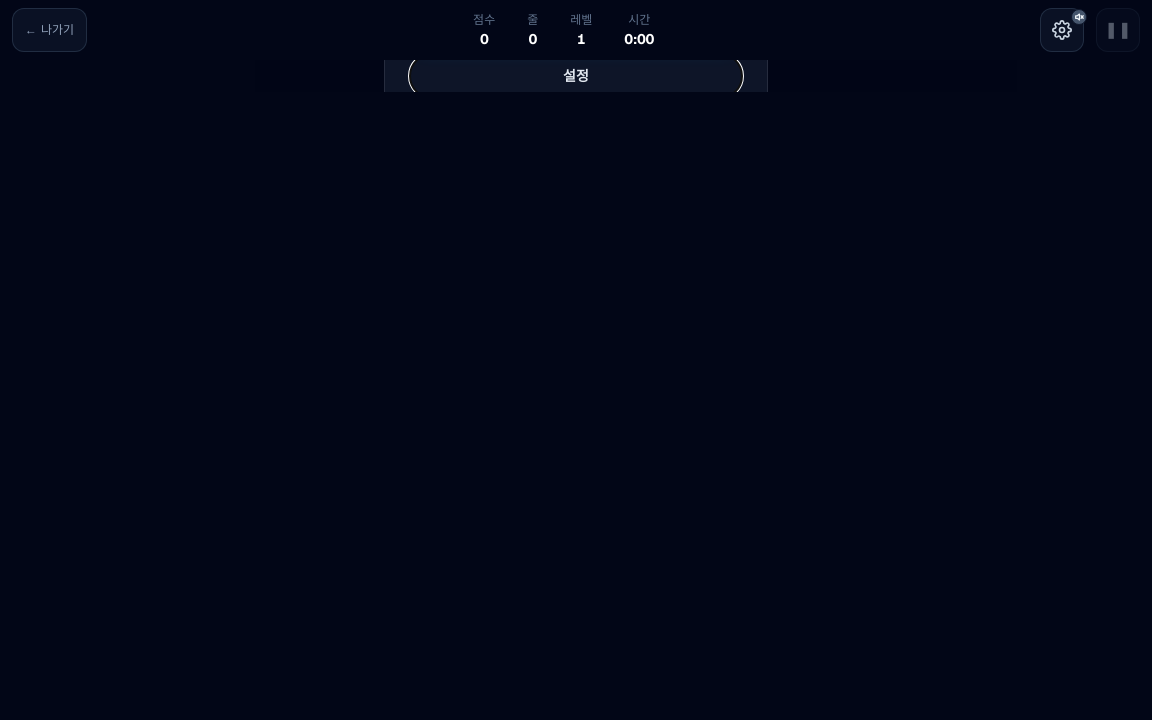
TetrisPlay 설정 시트와 준비 화면 (리뷰) › 준비 화면에서 시트를 연 사이 세션이 와도 "시작"이 포커스를 가져가지 않고, 닫은 뒤에 옮긴다
(page scrolled)
Click the button "설정".
click(576, 76)  # box [409,53,743,99]
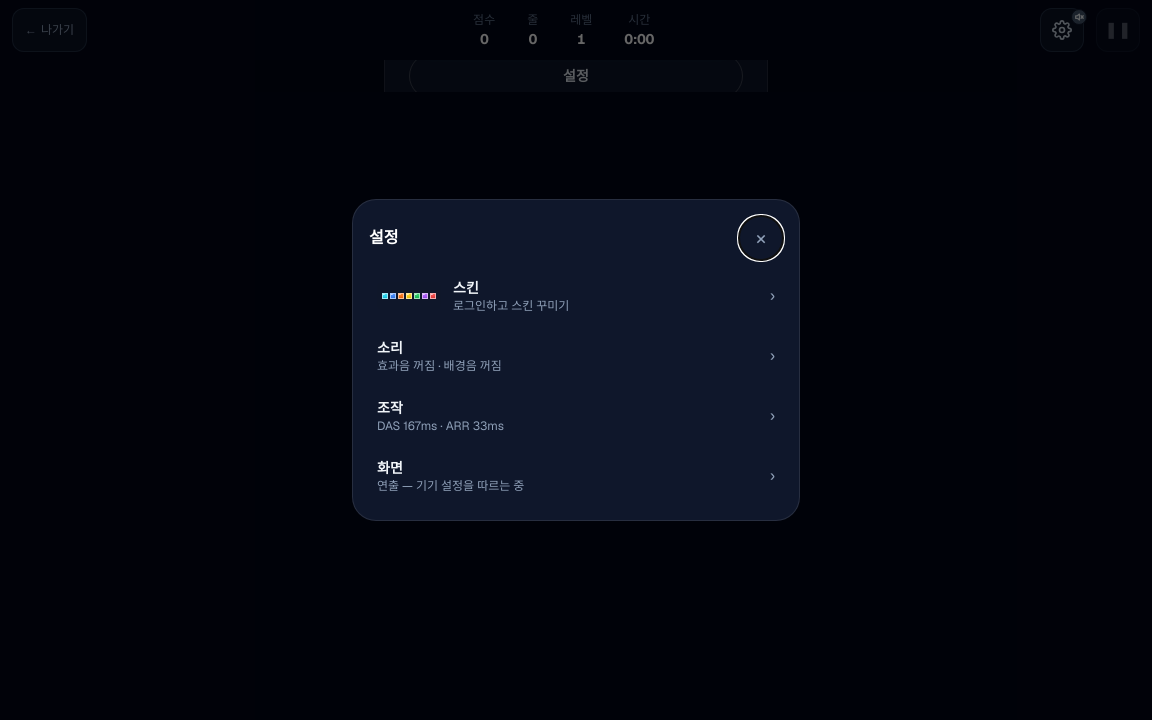
// 준비 화면에서는 곧 시작할 판에 들어간다 — "다음 판부터"가 아니다
Click the button with test id "settings-group-controls".
click(440, 426)  # box [369,388,783,444]
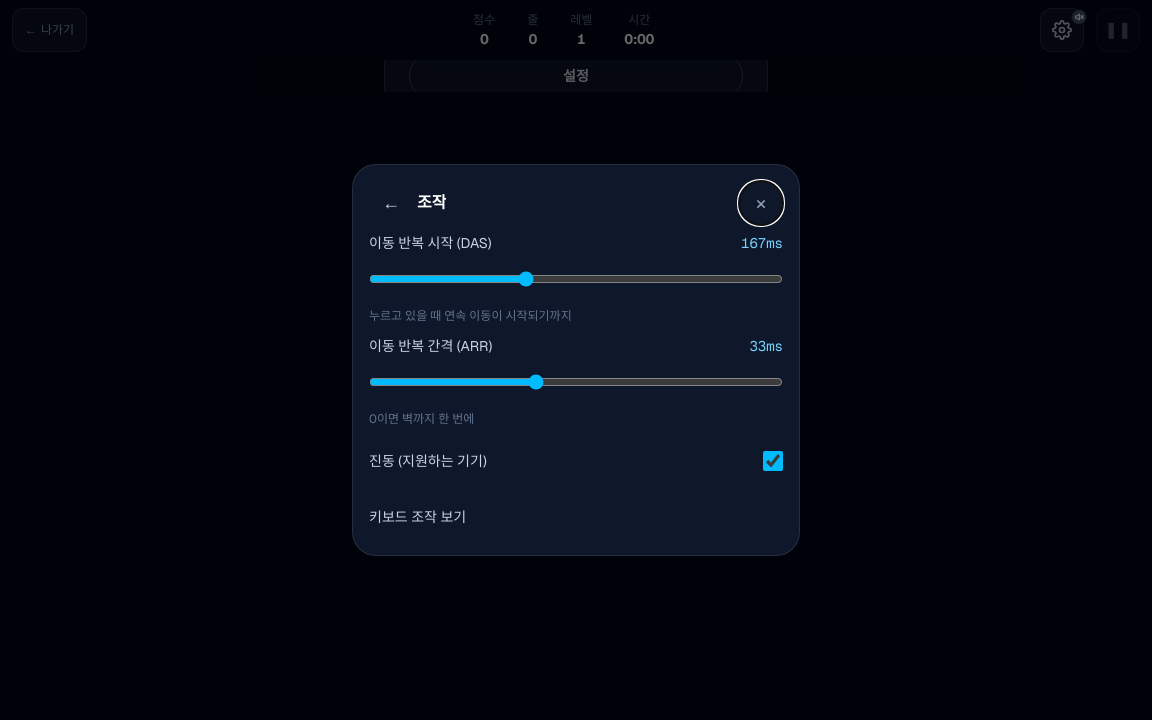
Press Escape
(page scrolled)
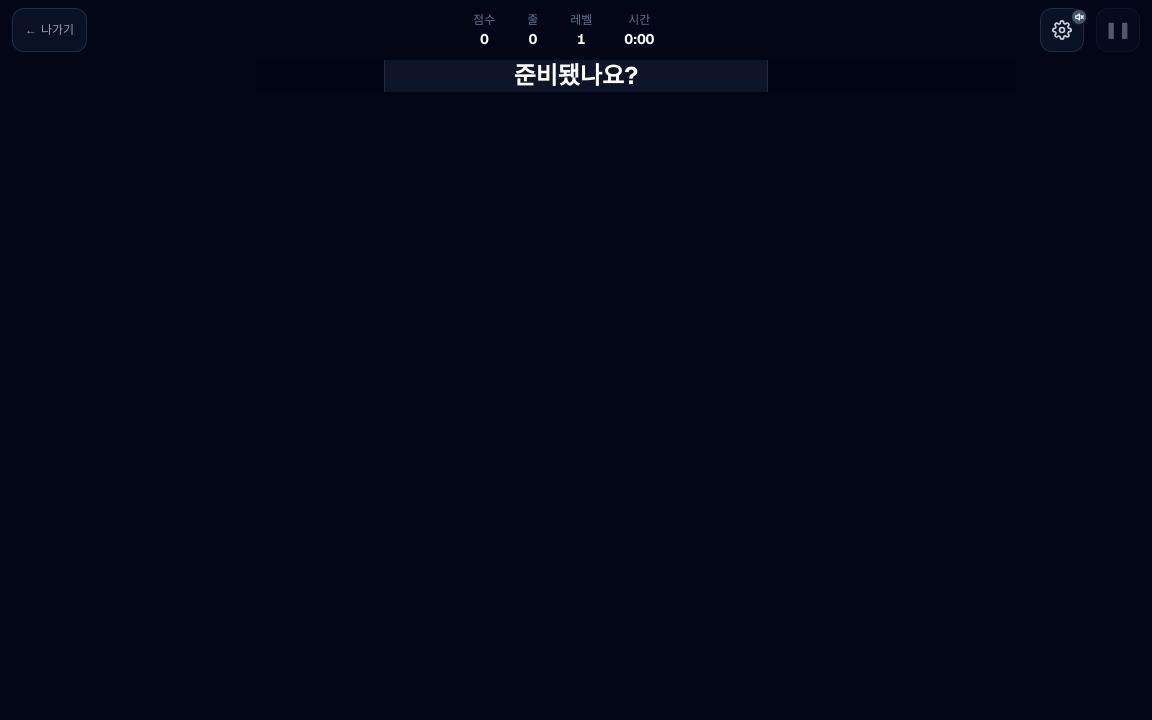
Now the heading "준비됐나요?" is shown, box [514,60,638,91]
